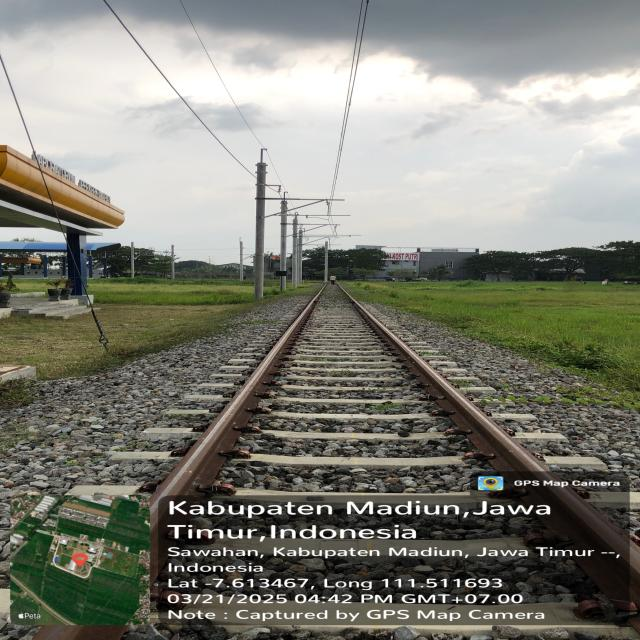rail-detection: (350, 298, 640, 610), (150, 290, 323, 585)
